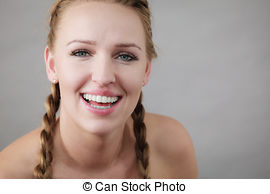Happy: (62, 38, 144, 115)
